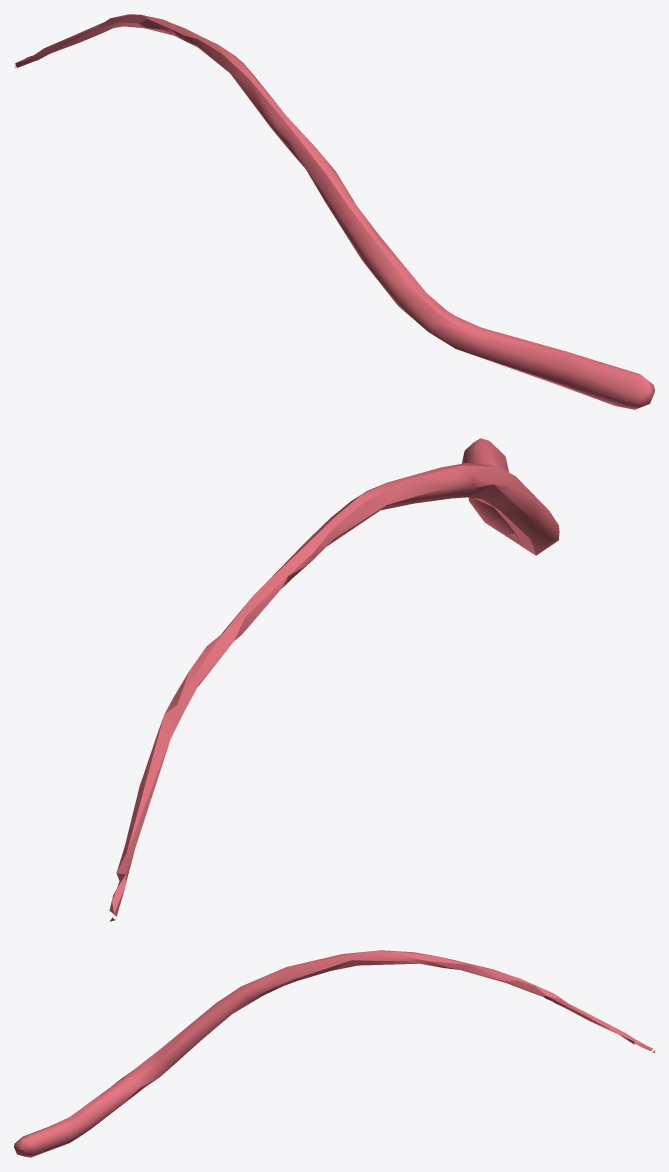
Rendered from fma50582_fj1688m.glb.
The picture shows the model from 3 angles, top to bottom: view 1: azimuth 30°, elevation 25°; view 2: azimuth 150°, elevation 25°; view 3: azimuth 270°, elevation 25°; orthographic projection. The views are drawn at different scales.
Parts seen in each view (by area): view 1: FMA50582_FJ1688M; view 2: FMA50582_FJ1688M; view 3: FMA50582_FJ1688M.
Boxes of the visible parts, <box> form: FMA50582_FJ1688M: <box>14,14,654,409</box>; FMA50582_FJ1688M: <box>109,438,559,921</box>; FMA50582_FJ1688M: <box>14,950,654,1157</box>.
Size of the model in its own units: 0.0116 by 0.0121 by 0.0464.
